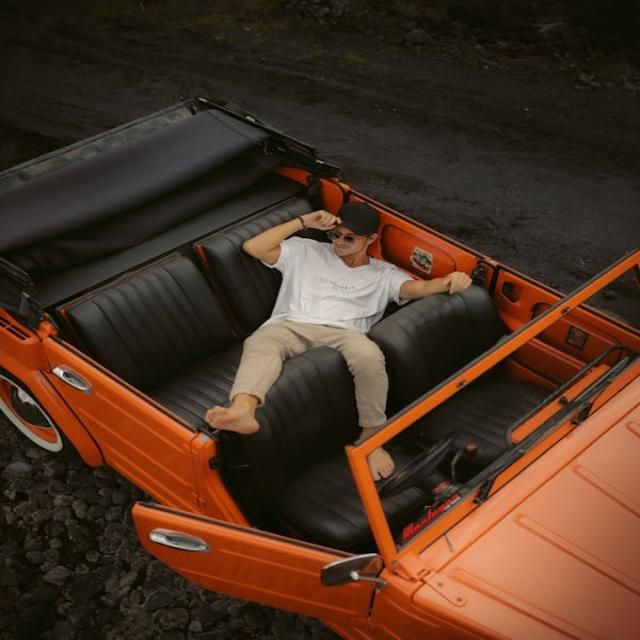Real human 2: (189, 181, 433, 502)
